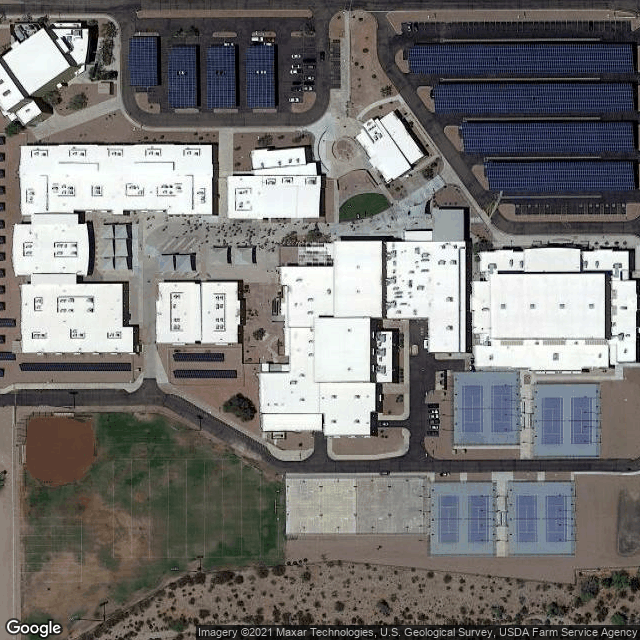carport-fixed: (410, 42, 632, 73), (433, 85, 633, 112), (461, 122, 640, 150), (487, 163, 635, 189), (167, 44, 197, 107), (206, 45, 236, 108), (246, 46, 276, 109), (129, 36, 159, 86)
